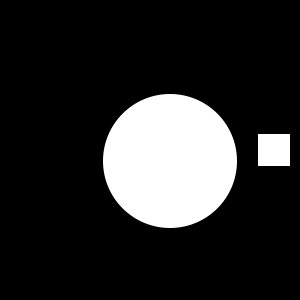circle: (258, 134, 290, 166)
rectangle: (103, 94, 237, 228)
